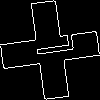L: (25, 25, 74, 59)
